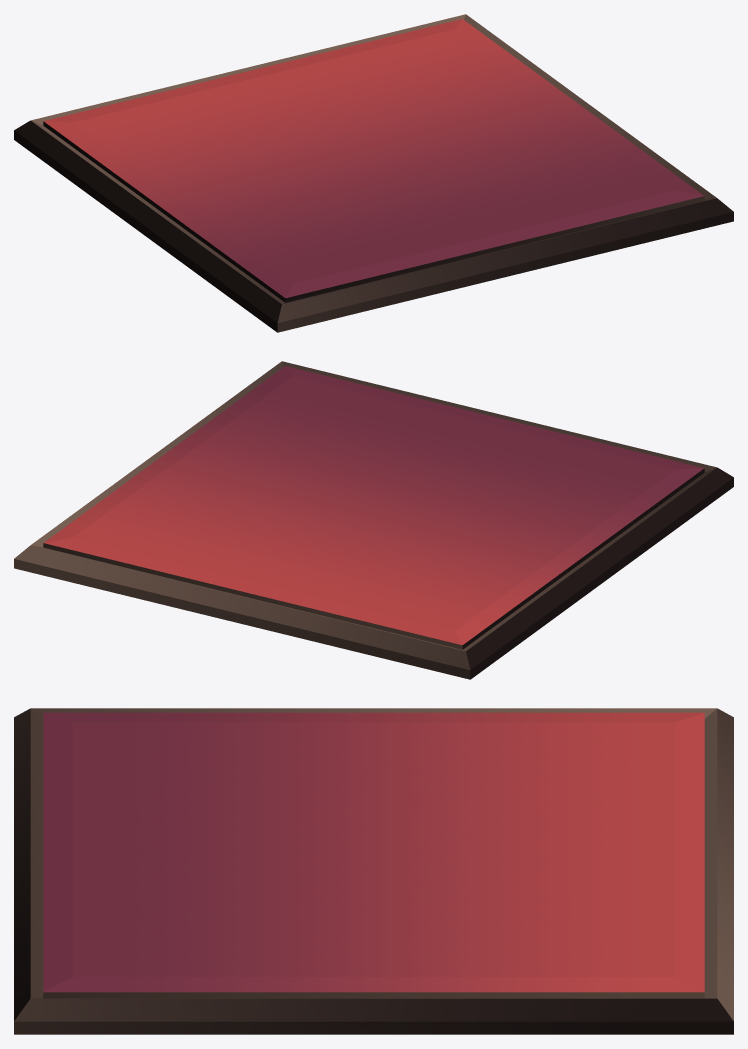
The model's file is pressure plate.fbx.
The picture shows the model from 3 angles, top to bottom: view 1: azimuth 30°, elevation 25°; view 2: azimuth 150°, elevation 25°; view 3: azimuth 270°, elevation 25°; orthographic projection. The views are drawn at different scales.
Parts seen in each view (by area): view 1: Box001; view 2: Box001; view 3: Box001.
Boxes of the visible parts, box(x1,y1,x2,y2) form: Box001: box(14, 14, 733, 332); Box001: box(14, 361, 733, 679); Box001: box(14, 708, 733, 1034).
Size of the model in its own units: 500 by 25.23 by 500.
